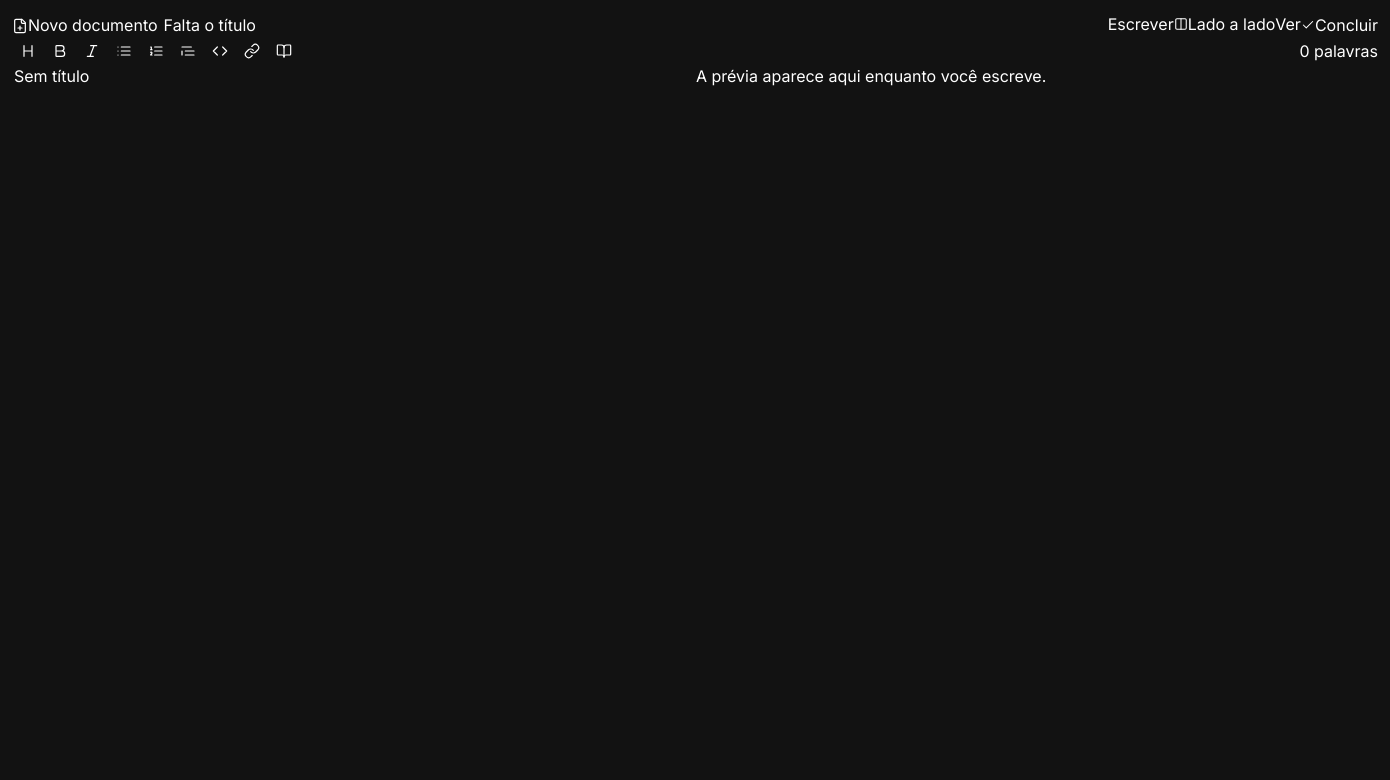
gravação em andamento e falhas (revisão 1) › título repetido no documento novo: o campo do título volta editável e com o foco
Type "Padrões de API" into the field named "Título do documento" at (355, 76), box [14,64,696,88]
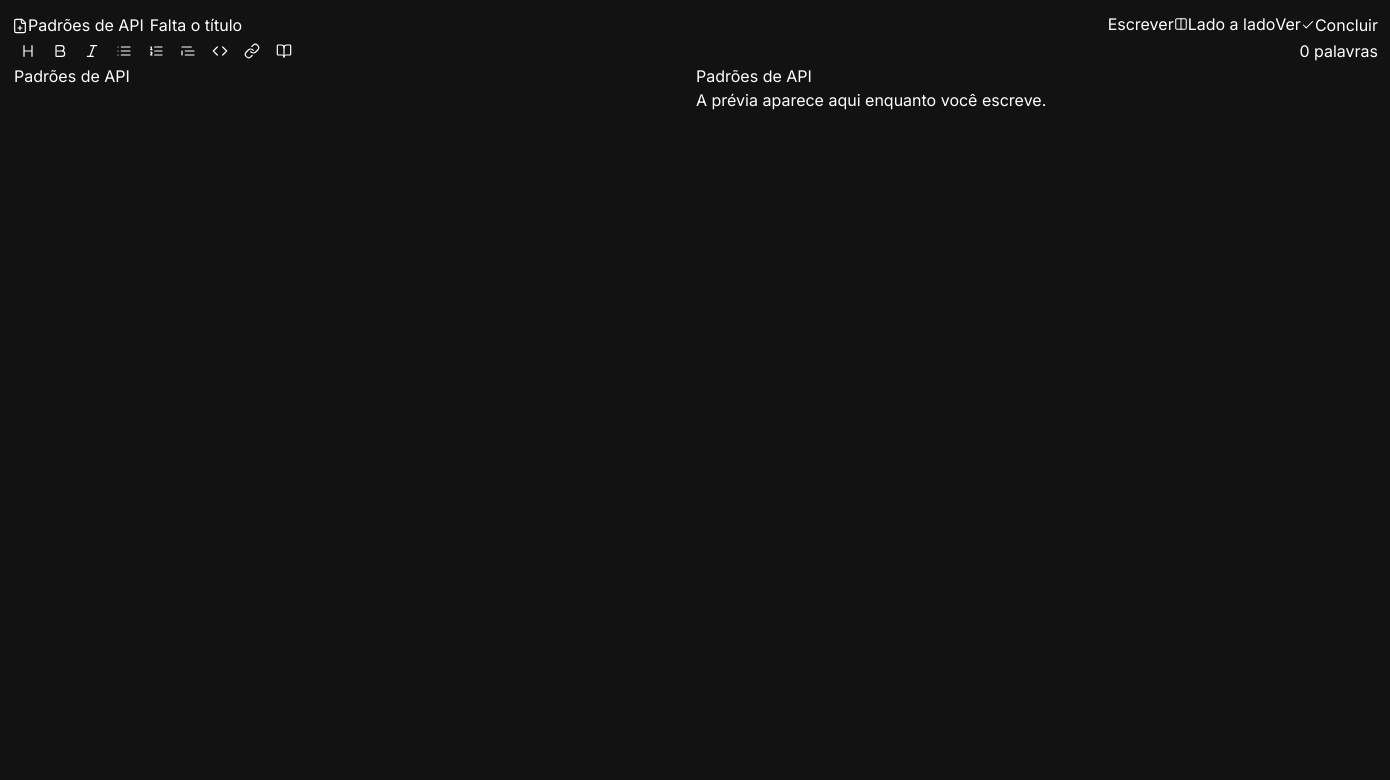
Press Enter in the field named "Título do documento", box [14,64,696,88]
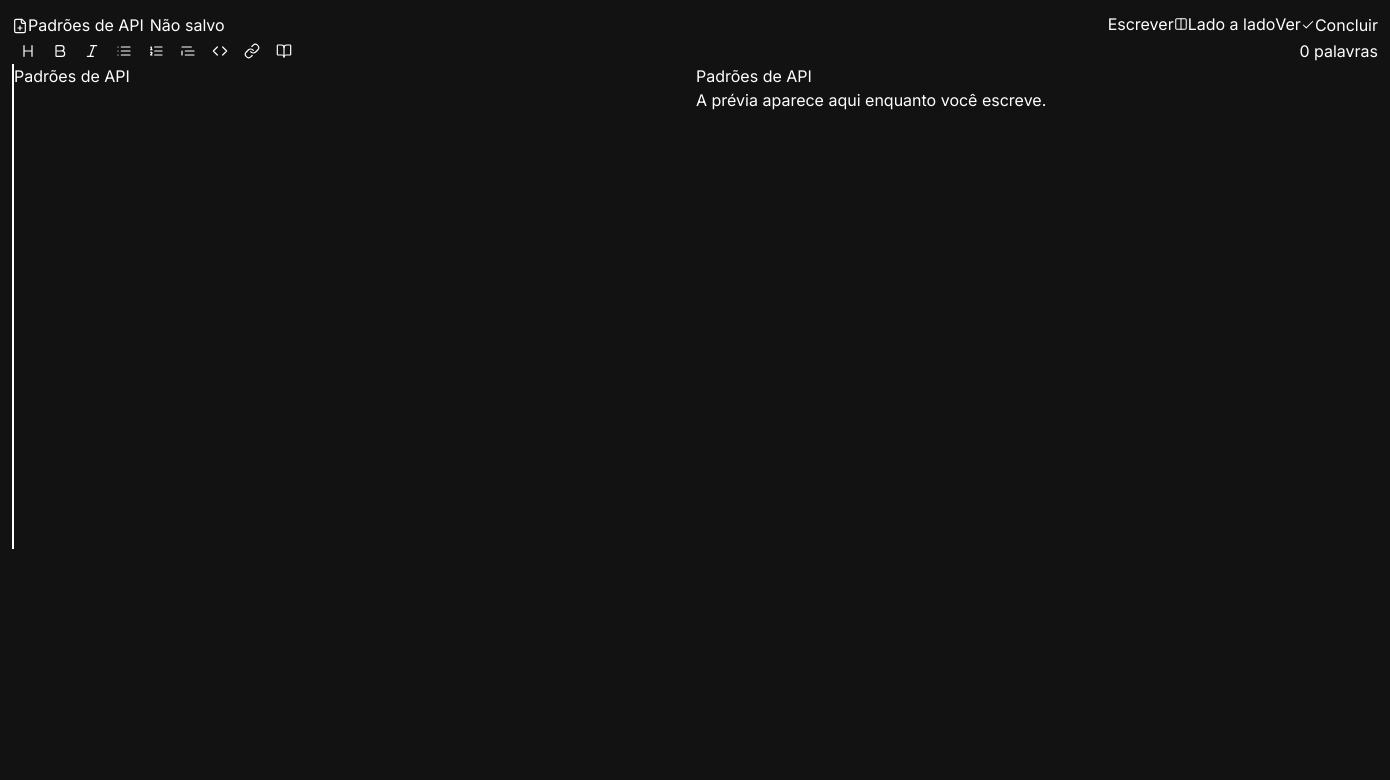
Replace the text in the text box named "Texto do documento, em markdown" with "texto" at (355, 318), box [14,88,696,549]
Wait 61300 ms
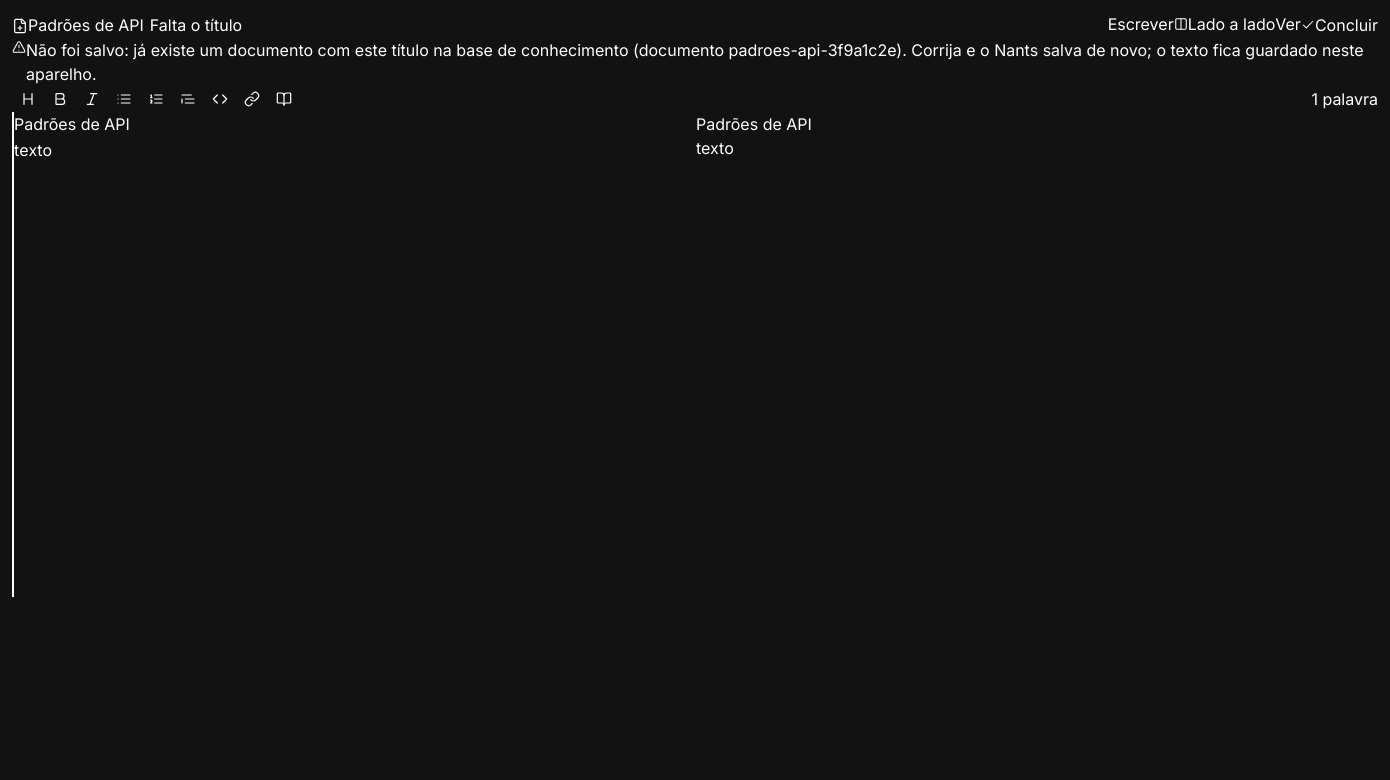
Expected: the 2nd message shows "já existe um documento com este título", [26,40,1364,84]
Expected: the text "Falta o título" is shown, [150,13,242,37]
